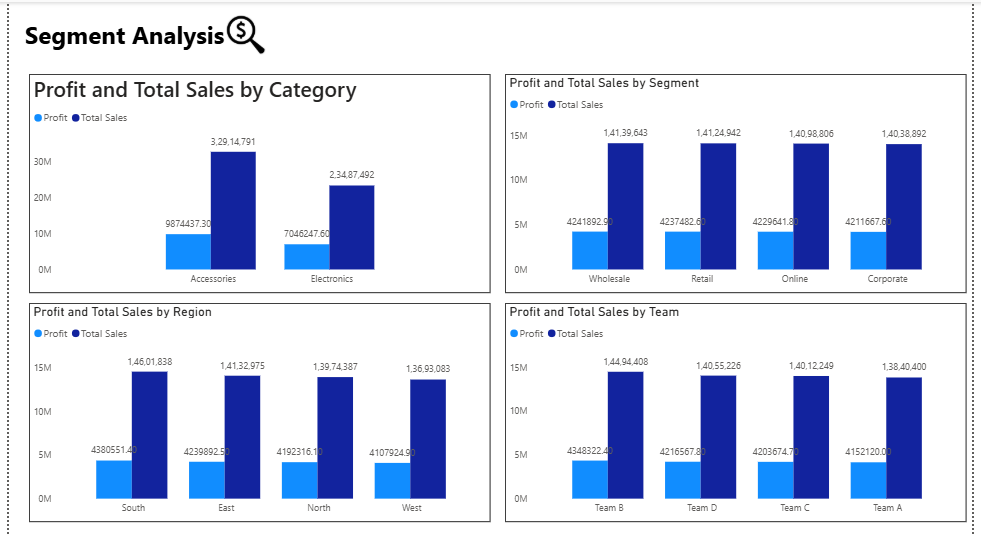

What the dashboard file says about the page in this screenshot:
{"tool":"powerbi","page":{"name":"Segment Analysis","canvas":[1280,720],"ordinal":5},"visuals":[{"type":"clusteredColumnChart","title":"Profit and Total Sales by Category","fields":{"Y":["Sum(SalesData.Profit)","_All Measures.Total Sales"],"Category":["SalesData.Category"]},"box":[26.3,95.1,613.2,291],"z":0},{"type":"clusteredColumnChart","title":"Profit and Total Sales by Segment","fields":{"Y":["Sum(SalesData.Profit)","_All Measures.Total Sales"],"Category":["SalesData.Segment"]},"box":[658.5,95.1,613,291],"z":1000},{"type":"clusteredColumnChart","title":"Profit and Total Sales by Region","fields":{"Y":["Sum(SalesData.Profit)","_All Measures.Total Sales"],"Category":["SalesData.Region"]},"box":[26.3,399.5,613.2,291.2],"z":2000},{"type":"clusteredColumnChart","title":"Profit and Total Sales by Team","fields":{"Y":["Sum(SalesData.Profit)","_All Measures.Total Sales"],"Category":["SalesData.Team"]},"box":[658.5,399.5,613.2,291.2],"z":3000},{"type":"textbox","box":[16.1,16.1,300,57.1],"z":4000},{"type":"image","box":[282.4,16.1,65.9,57.1],"z":5000}]}

Visuals, with their boxes in screenshot pixels (x1, y1, x2, y2), scaled from the page's 1280x720 canvas onto the 981x536 screenshot:
"Profit and Total Sales by Category" clusteredColumnChart: left=20, top=71, right=490, bottom=287
"Profit and Total Sales by Segment" clusteredColumnChart: left=505, top=71, right=974, bottom=287
"Profit and Total Sales by Region" clusteredColumnChart: left=20, top=297, right=490, bottom=514
"Profit and Total Sales by Team" clusteredColumnChart: left=505, top=297, right=975, bottom=514
textbox: left=12, top=12, right=242, bottom=54
image: left=216, top=12, right=267, bottom=54
